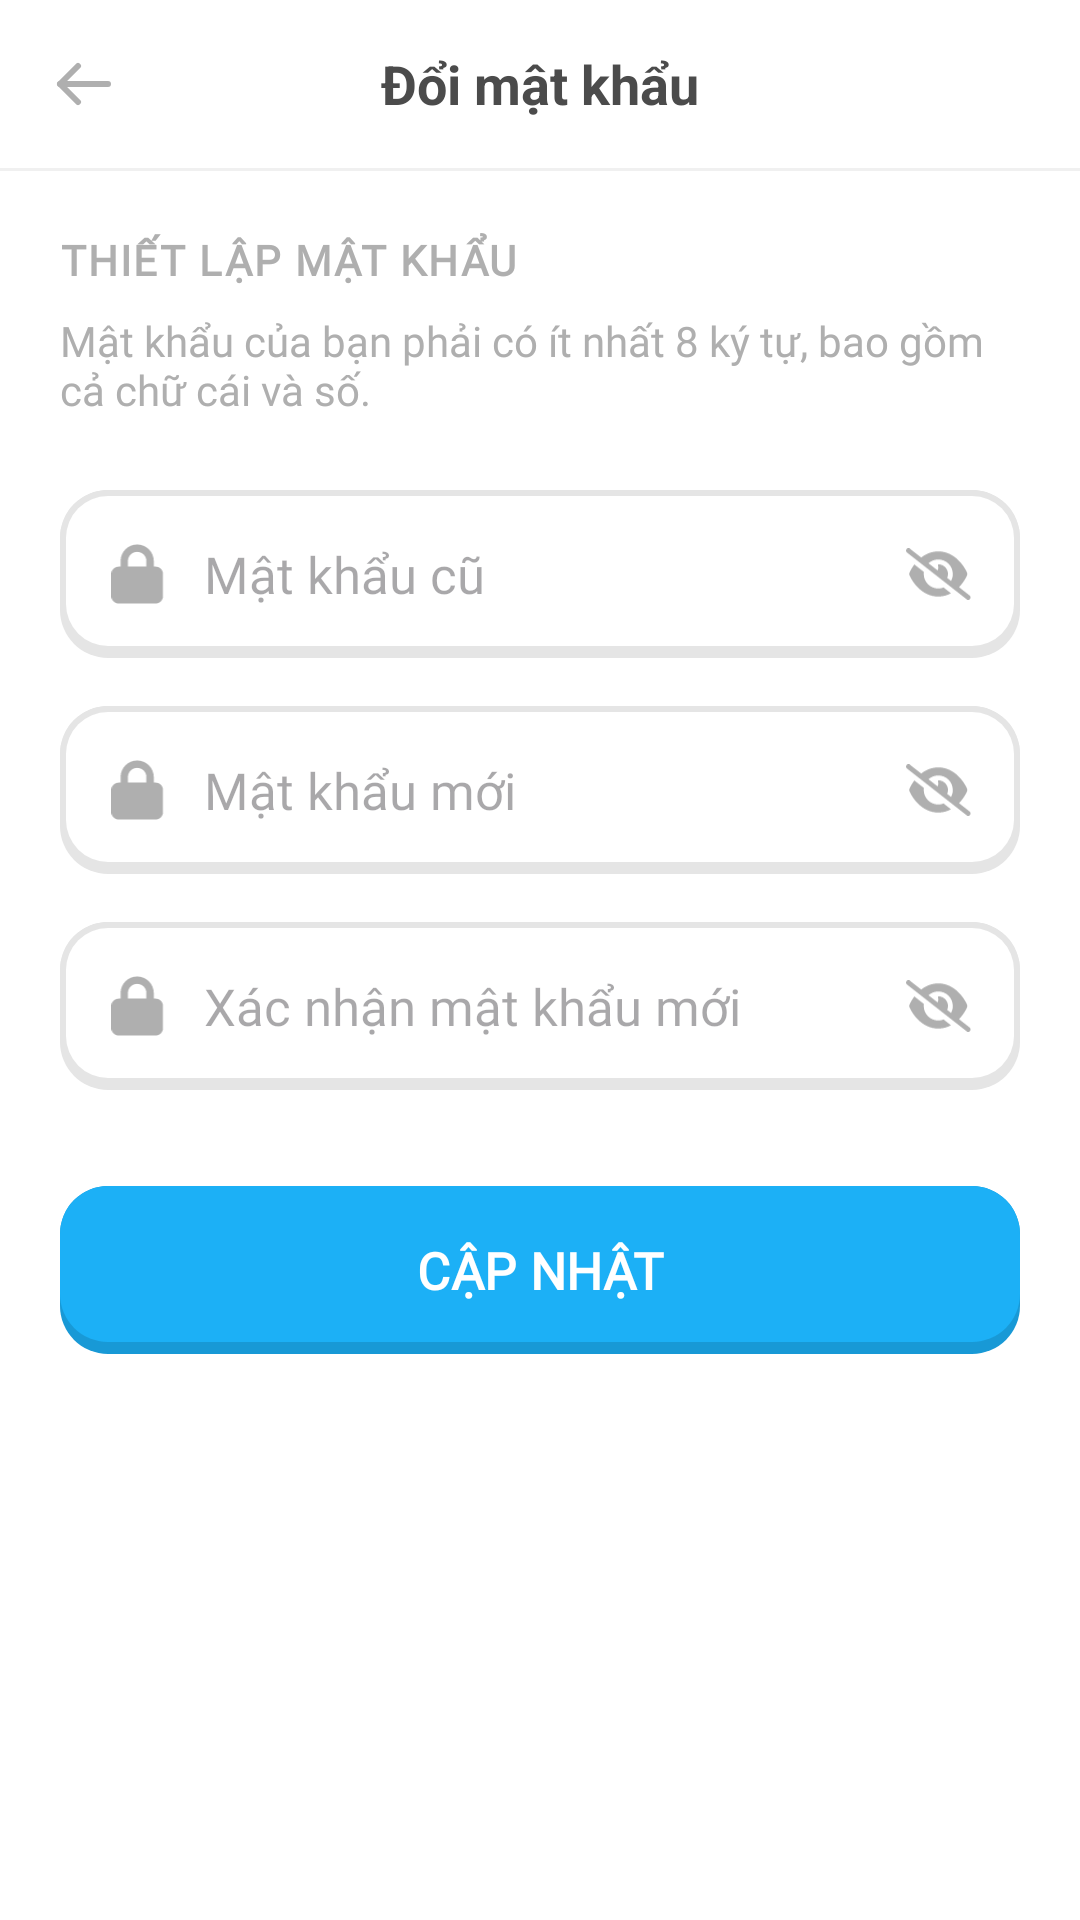

Icons on this 1080 x 1920 Android screen, each with the point to tap as [x,y]:
arrow left: [84,84]
lock vip: [137,574], [137,790], [137,1006]
uneye: [938,574], [938,790], [938,1006]
